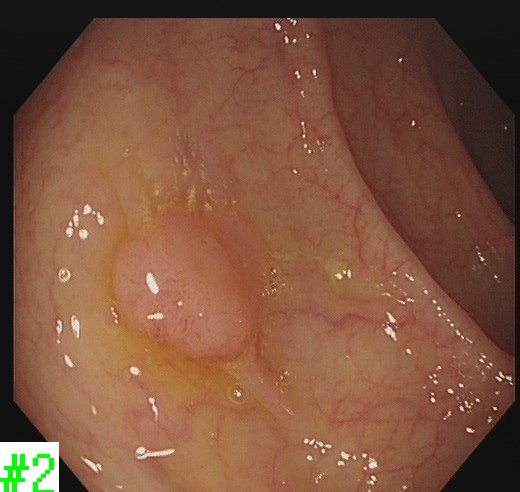adenoma: (106, 208, 260, 365)
